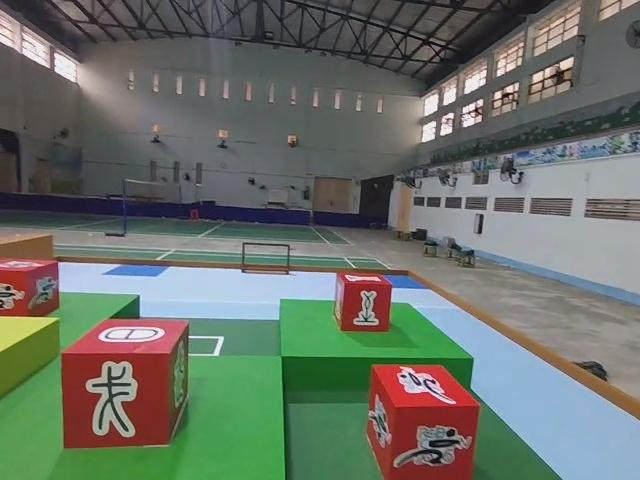R1: (364, 358, 482, 480), (0, 254, 62, 323)
R2 Fake: (62, 316, 192, 448)
R2 Real: (334, 268, 395, 335)
